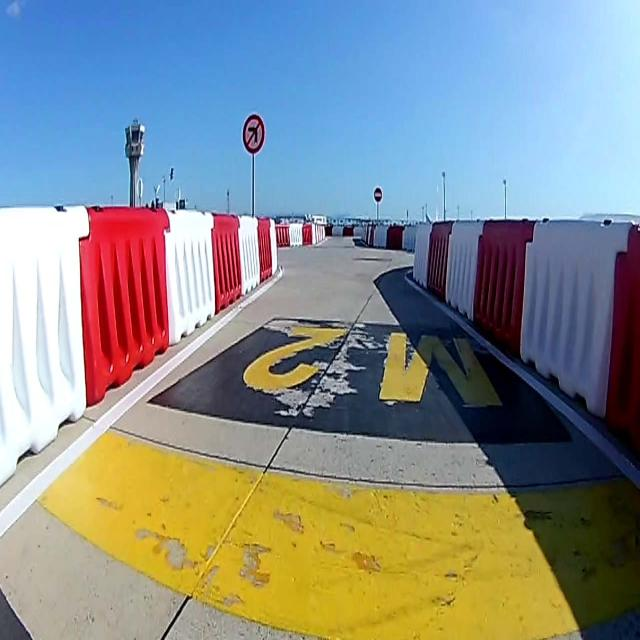soladonulmez: (242, 115, 265, 153)
